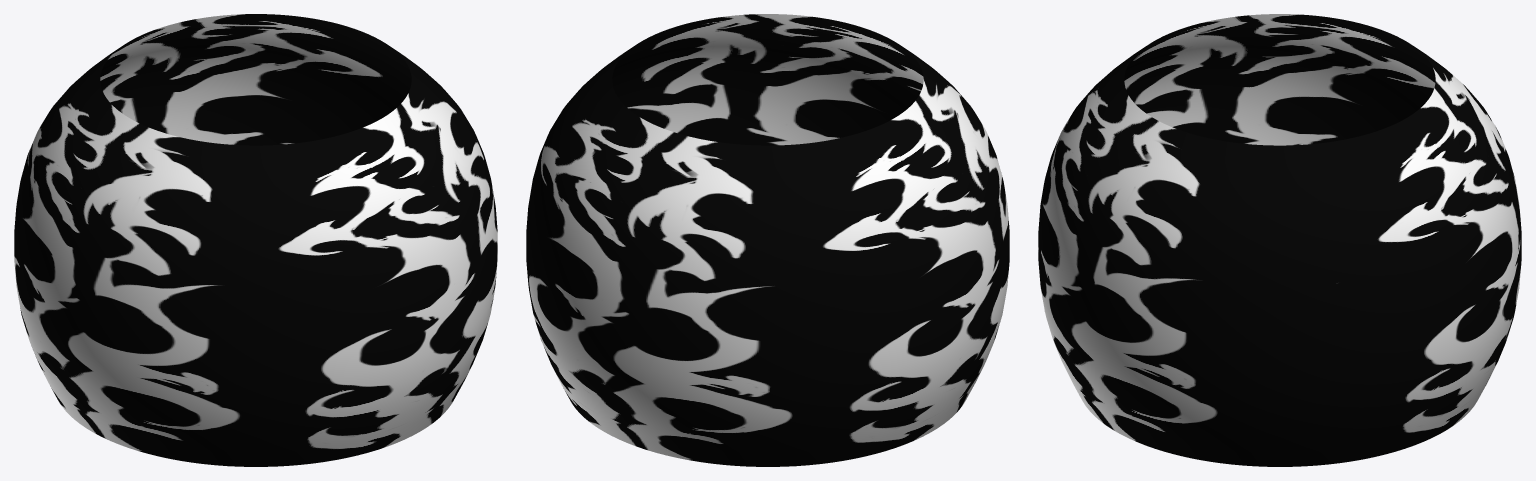
The model's file is FireWallMesh2.fbx.
3 renders of one model, left to right at view 1: azimuth 30°, elevation 25°; view 2: azimuth 150°, elevation 25°; view 3: azimuth 270°, elevation 25°, orthographic.
Parts seen in each view (by area): view 1: pasted__FireWallMesh2; view 2: pasted__FireWallMesh2; view 3: pasted__FireWallMesh2.
Boxes of the visible parts, x1,y1,x2,y2 form: pasted__FireWallMesh2: [14, 14, 497, 466]; pasted__FireWallMesh2: [526, 14, 1009, 466]; pasted__FireWallMesh2: [1038, 14, 1521, 466].
Bounding box in the file's own units: 160 × 110 × 160.
1 material, 1 textured.
